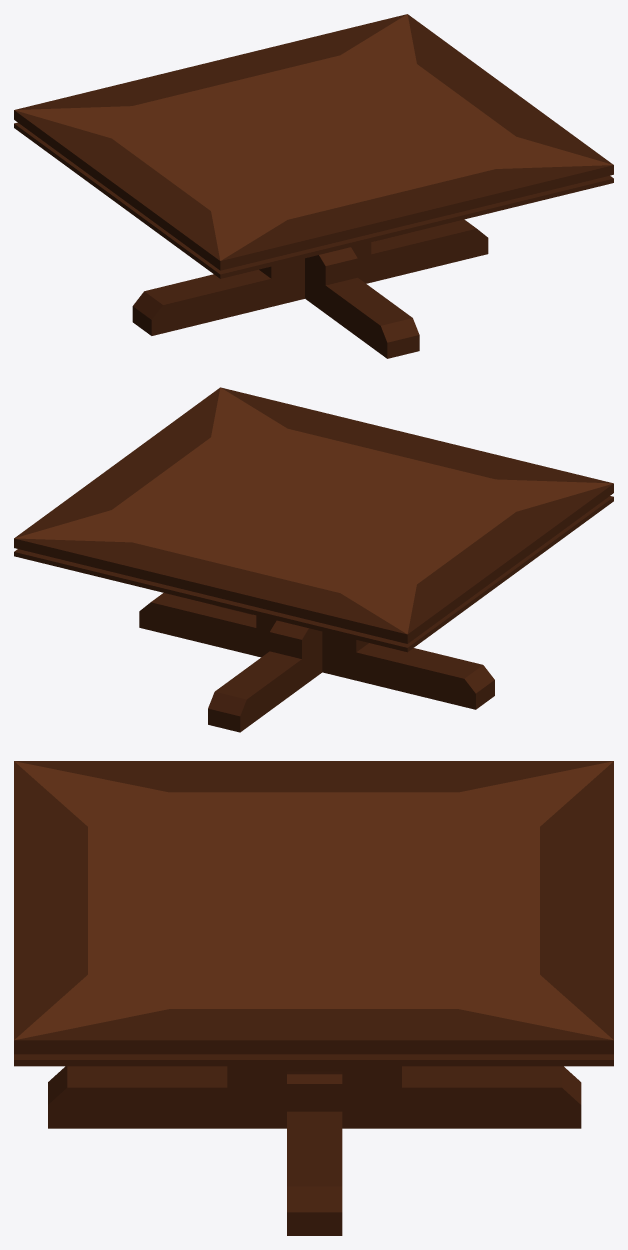
File: Table-Square-Wooden-Classical_01.fbx
3 renders of one model, top to bottom at view 1: azimuth 30°, elevation 25°; view 2: azimuth 150°, elevation 25°; view 3: azimuth 270°, elevation 25°, orthographic. The views are drawn at different scales.
Visible parts, largest first — view 1: Table_Square_01; view 2: Table_Square_01; view 3: Table_Square_01.
Part boxes in pixels (x1,y1,x2,y2): Table_Square_01: (14,14,613,358); Table_Square_01: (14,387,613,732); Table_Square_01: (14,761,613,1235).
Size of the model in its own units: 2.2 by 0.7993 by 1.99.
